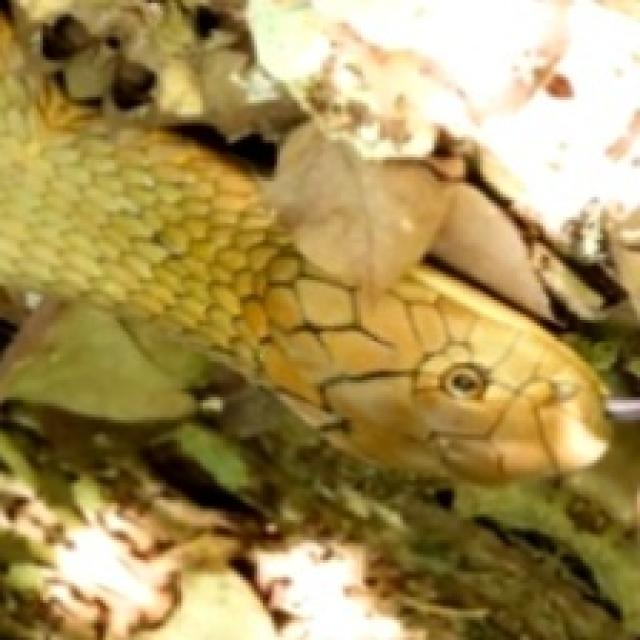king cobra: (0, 0, 637, 480)
